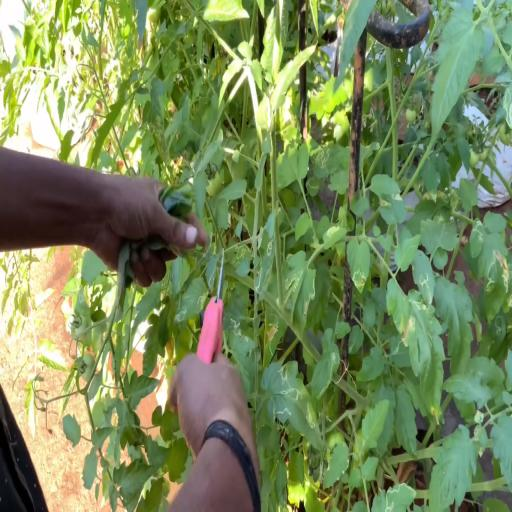Leaf_Miner: (386, 278, 446, 426), (260, 360, 324, 455), (470, 210, 510, 324), (286, 250, 316, 342), (312, 328, 340, 411), (173, 276, 209, 323), (411, 250, 435, 311), (371, 481, 416, 512), (346, 239, 370, 293), (256, 240, 275, 301), (313, 146, 338, 179), (389, 333, 411, 368), (223, 295, 245, 329), (229, 327, 255, 355), (226, 244, 254, 267), (206, 254, 220, 294), (503, 81, 512, 130), (306, 176, 319, 197), (494, 312, 504, 337)
